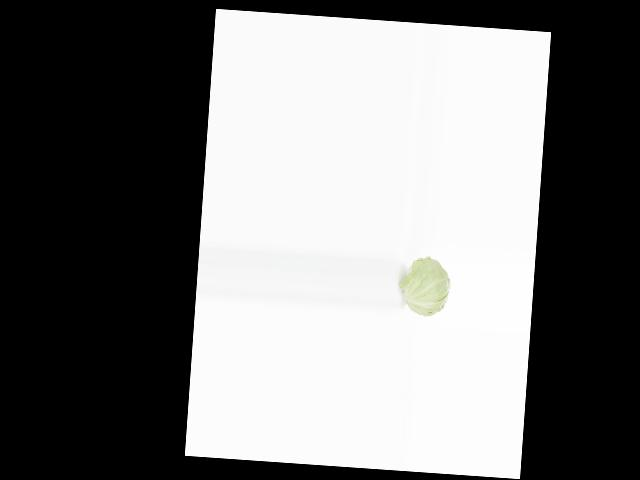lettuce: (403, 253, 452, 321)
